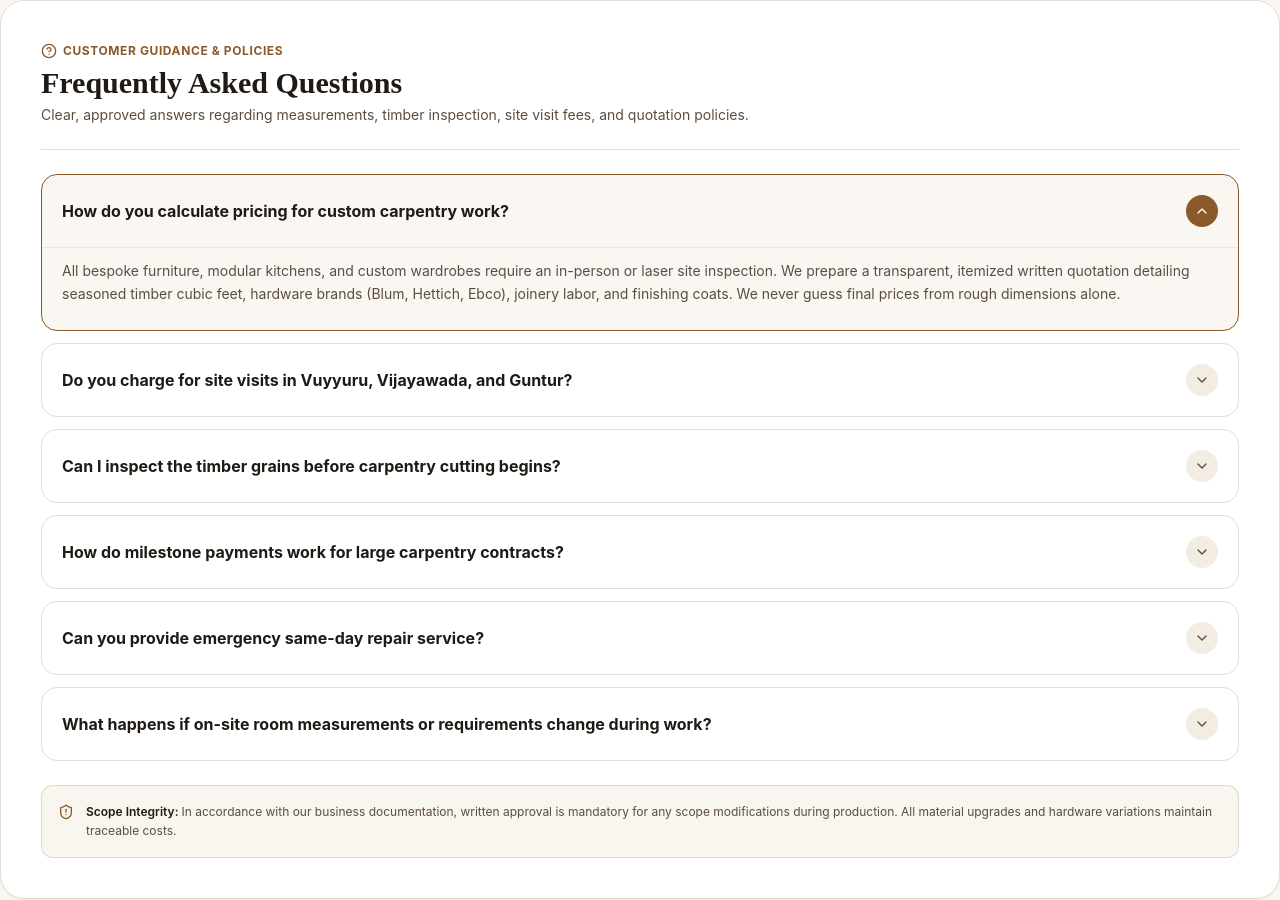
Test: Screen 06: Services Acceptance Tests › renders approved FAQs and expands answers on click
The image size is (1280, 900).
Check: the text "How do you calculate pricing for custom carpentry work?" is shown, box [62,199,509,223]
Check: the text "All bespoke furniture, modular kitchens, and custom wardrobes require an in-person or laser site inspection. We prepare " is shown, box [62,262,1190,302]
// Second FAQ
Click the button "Do you charge for site visits in Vuyyuru, Vijayawada, and Guntur?".
click(317, 380)  # box [42,344,1238,416]
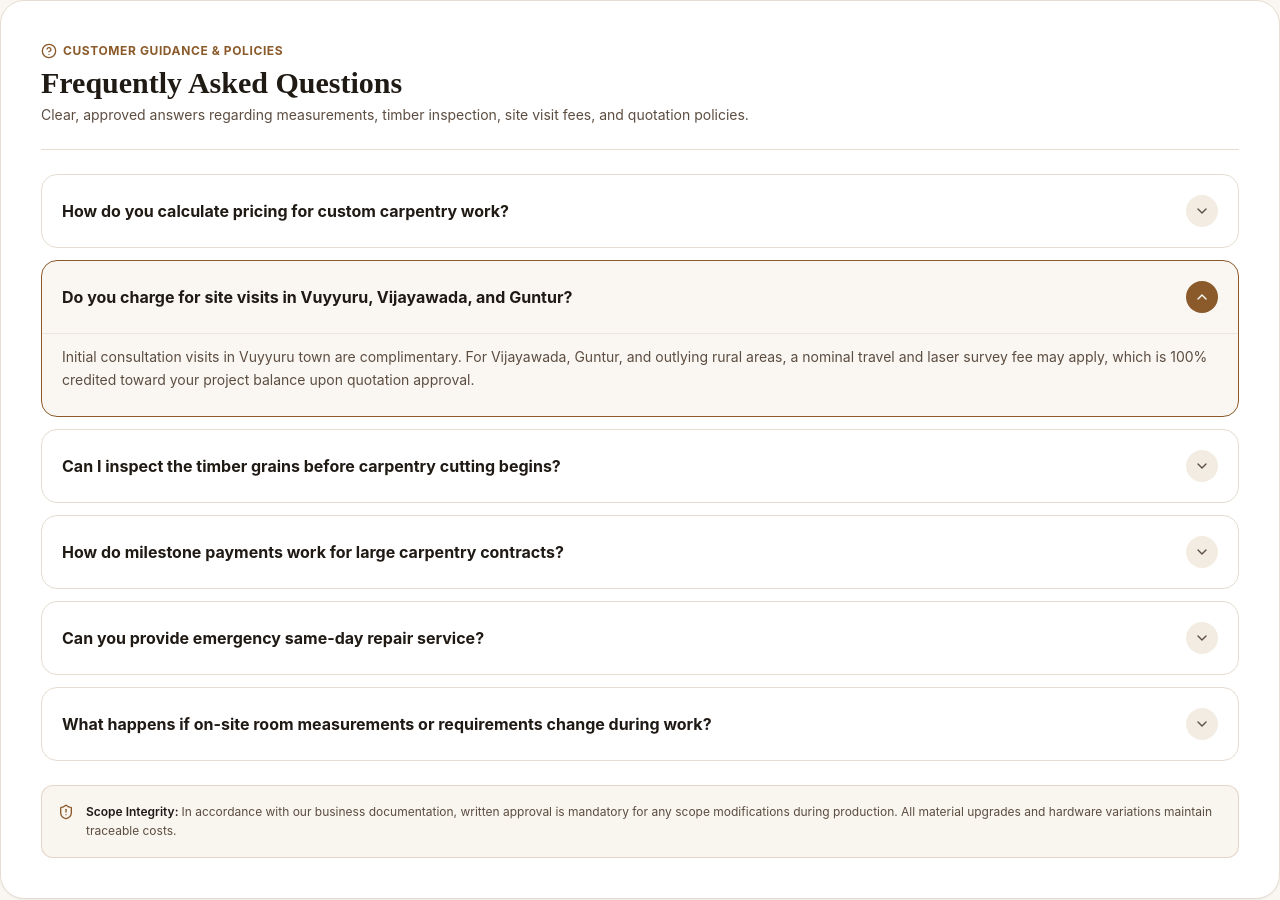
Check: the text "Initial consultation visits in Vuyyuru town are complimentary. For Vijayawada, Guntur, and outlying rural areas, a nomin" is shown, box [62,348,1207,388]
